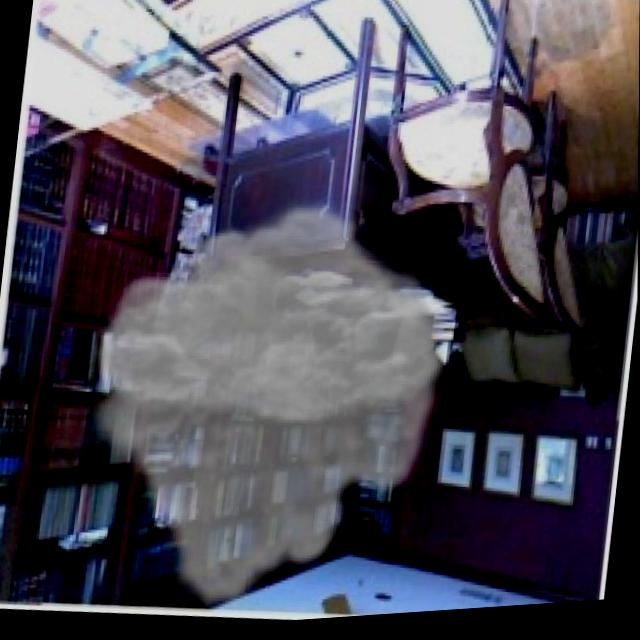Smoke: (59, 191, 471, 623)
